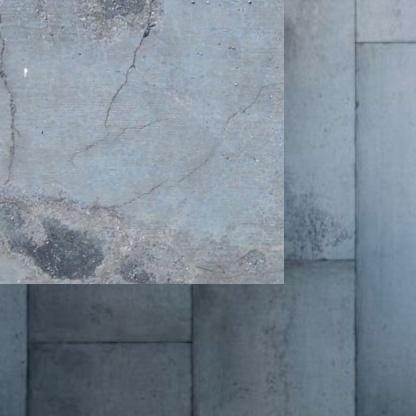Cracks: (71, 71, 262, 201), (66, 0, 161, 151), (0, 0, 22, 176)
